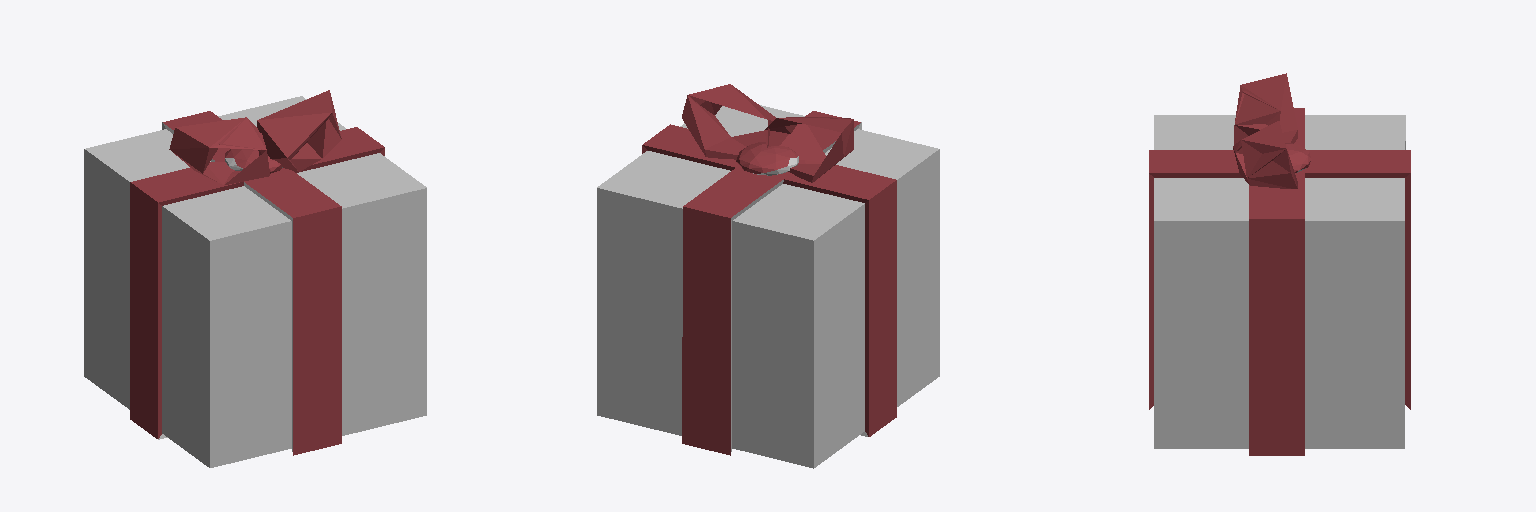
The picture shows the model from 3 angles: view 1: azimuth 30°, elevation 25°; view 2: azimuth 150°, elevation 25°; view 3: azimuth 270°, elevation 25°; orthographic projection.
Visible parts, largest first — view 1: Cube.021, BezierCircle.003; view 2: Cube.021, BezierCircle.003; view 3: Cube.021, BezierCircle.003.
Boxes of the visible parts, box(x1,y1,x2,y2) form: Cube.021: box(84, 96, 426, 467); BezierCircle.003: box(169, 90, 341, 184); Cube.021: box(597, 105, 939, 468); BezierCircle.003: box(682, 84, 853, 182); Cube.021: box(1149, 108, 1410, 455); BezierCircle.003: box(1233, 73, 1297, 188).
Size of the model in its own units: 0.7961 by 0.9716 by 0.7961.
3 materials, 1 textured.